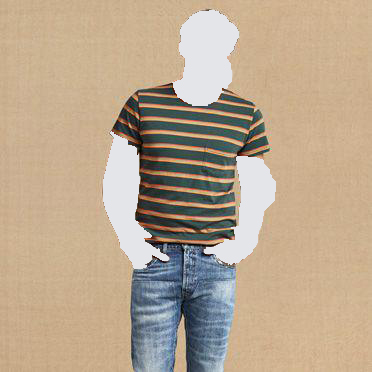teeshirt: (110, 79, 271, 249)
